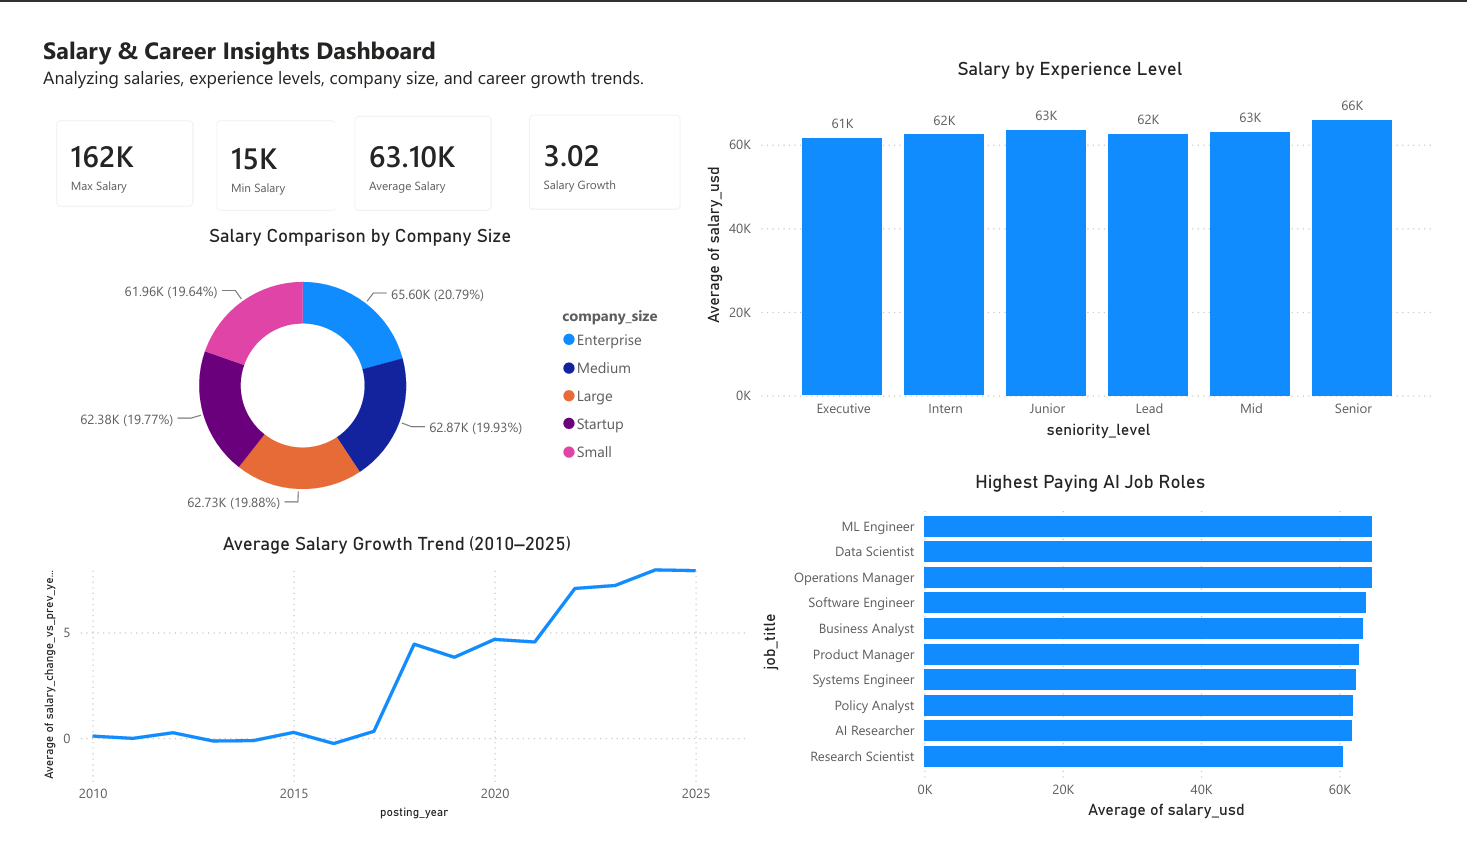

This screenshot's page, from the dashboard's own definition file:
{"tool":"powerbi","page":{"name":"Salary & Career Insights Dashboard","canvas":[1280,720],"ordinal":2},"visuals":[{"type":"textbox","box":[9.9,0,598.7,85.4],"z":0},{"type":"cardVisual","fields":{"Data":["ai_impact_jobs_2010_2025.Max Salary"]},"box":[10,66,157.5,112],"z":1000},{"type":"cardVisual","fields":{"Data":["ai_impact_jobs_2010_2025.Min Salary"]},"box":[155,65.5,141.5,116],"z":2000},{"type":"cardVisual","fields":{"Data":["ai_impact_jobs_2010_2025.Average Salary"]},"box":[280,62,158,119.5],"z":3000},{"type":"cardVisual","fields":{"Data":["ai_impact_jobs_2010_2025.Salary Growth"]},"box":[437.5,61.2,171.2,120],"z":4000},{"type":"barChart","title":"Highest Paying AI Job Roles","fields":{"Category":["ai_impact_jobs_2010_2025.job_title"],"Y":["Avg(ai_impact_jobs_2010_2025.salary_usd)"]},"box":[660,400,605.7,320],"z":5000},{"type":"columnChart","title":"Salary by Experience Level","fields":{"Category":["ai_impact_jobs_2010_2025.seniority_level"],"Y":["Avg(ai_impact_jobs_2010_2025.salary_usd)"]},"box":[608.6,25.7,671.4,350],"z":6000},{"type":"lineChart","title":"Average Salary Growth Trend (2010–2025)","fields":{"Category":["ai_impact_jobs_2010_2025.posting_year"],"Y":["Avg(ai_impact_jobs_2010_2025.salary_change_vs_prev_year_percent)"]},"box":[10,455.7,650,264.3],"z":7000},{"type":"donutChart","title":"Salary Comparison by Company Size","fields":{"Category":["ai_impact_jobs_2010_2025.company_size"],"Y":["Avg(ai_impact_jobs_2010_2025.salary_usd)"]},"box":[10,177.1,584.3,272.9],"z":8000}]}

Visuals, with their boxes on the page's 1280x720 design canvas (x1, y1, x2, y2). These are canvas units, not pixel positions in the 1467x851 screenshot, which may show the page scaled, cropped or inside an application window:
textbox: box(10, 0, 609, 85)
cardVisual - ai_impact_jobs_2010_2025.Max Salary: box(10, 66, 168, 178)
cardVisual - ai_impact_jobs_2010_2025.Min Salary: box(155, 66, 296, 182)
cardVisual - ai_impact_jobs_2010_2025.Average Salary: box(280, 62, 438, 182)
cardVisual - ai_impact_jobs_2010_2025.Salary Growth: box(438, 61, 609, 181)
"Highest Paying AI Job Roles" barChart: box(660, 400, 1266, 720)
"Salary by Experience Level" columnChart: box(609, 26, 1280, 376)
"Average Salary Growth Trend (2010–2025)" lineChart: box(10, 456, 660, 720)
"Salary Comparison by Company Size" donutChart: box(10, 177, 594, 450)
